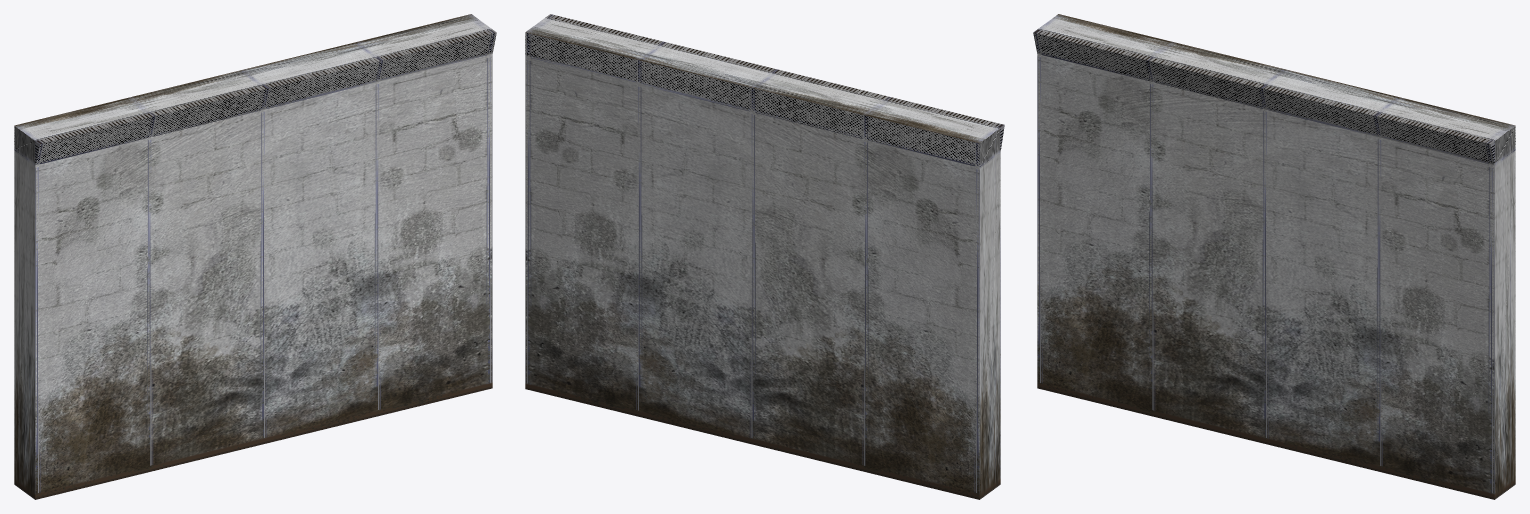
Rendered from Wall 1.fbx.
3 views of the same model, side by side, from view 1: azimuth 30°, elevation 25°; view 2: azimuth 150°, elevation 25°; view 3: azimuth 330°, elevation 25° (orthographic).
Visible parts, largest first — view 1: hallway 1; view 2: hallway 1; view 3: hallway 1.
Part boxes in pixels (x1=…): hallway 1: x1=14, y1=14, x2=496, y2=499; hallway 1: x1=525, y1=14, x2=1004, y2=499; hallway 1: x1=1033, y1=14, x2=1515, y2=499.
Bounding box in the file's own units: 400 × 300 × 38.35.
Materials: 1 (1 with a texture image).
